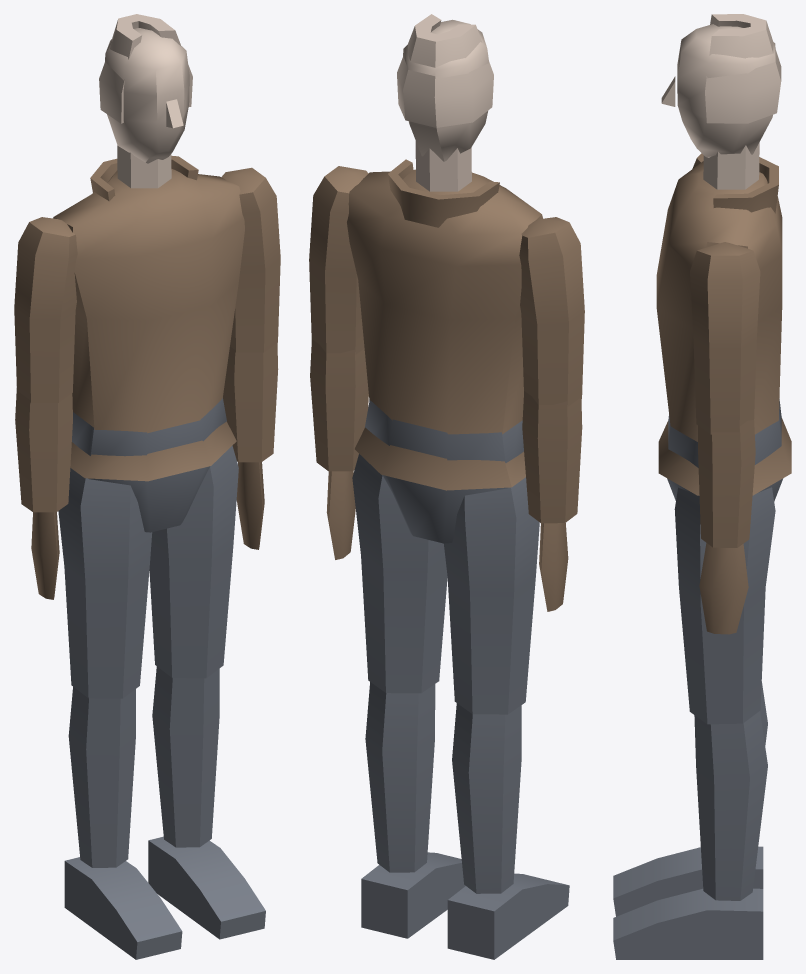
File: sara.glb
3 renders of one model, left to right at view 1: azimuth 30°, elevation 25°; view 2: azimuth 150°, elevation 25°; view 3: azimuth 270°, elevation 25°, orthographic. The views are drawn at different scales.
Parts seen in each view (by area): view 1: torso, shin_r, shin_l, leg_r, leg_l, head, arm_r, forearm_r, forearm_l, arm_l, hips; view 2: torso, leg_r, shin_r, shin_l, leg_l, head, arm_r, forearm_r, forearm_l, arm_l, hips; view 3: torso, shin_l, head, leg_l, arm_l, forearm_l, shin_r, hips.
Part boxes in pixels (x1,y1,x2,y2): torso: (53,155,244,481); shin_r: (64,687,182,959); shin_l: (148,666,265,939); leg_r: (58,468,152,698); leg_l: (149,445,238,678); head: (99,14,192,188); arm_r: (14,217,77,402); forearm_r: (15,387,72,599); forearm_l: (223,343,278,549); arm_l: (221,167,280,352); hips: (72,398,226,532); torso: (347,159,542,490); leg_r: (444,477,539,714); shin_r: (447,703,569,959); shin_l: (361,682,465,938); leg_l: (352,454,447,693); head: (397,14,493,191); arm_r: (519,217,584,406); forearm_r: (522,391,582,611); forearm_l: (310,339,368,559); arm_l: (309,166,368,354); hips: (364,400,523,543); torso: (656,157,791,495); shin_l: (613,711,767,959); head: (661,14,781,189); leg_l: (674,487,775,724); arm_l: (690,242,760,434); forearm_l: (698,420,755,634); shin_r: (613,681,767,916); hips: (667,398,783,501).
Size of the model in its own units: 0.5191 by 1.73 by 0.3097.
